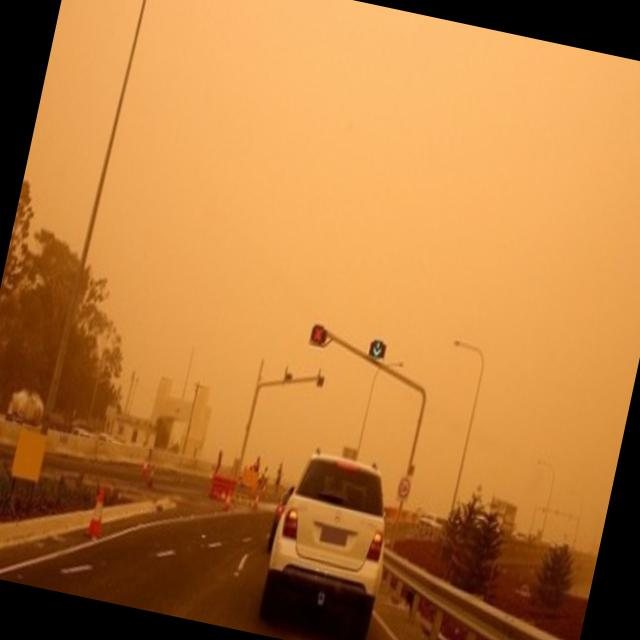car: (252, 446, 404, 640)
